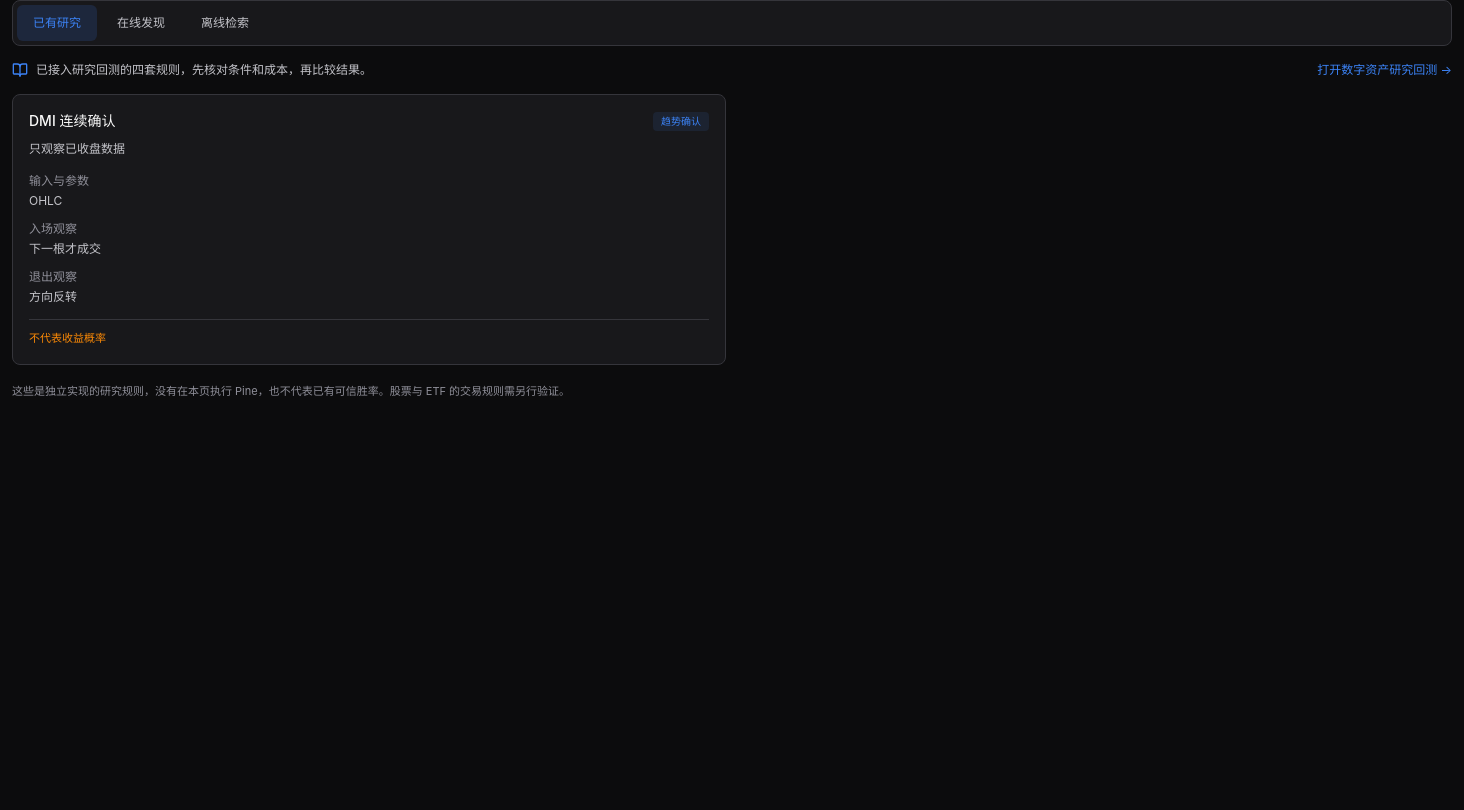
Test: only fetches source on demand and renders markup as literal text
Click the tab "在线发现" at (141, 23), box [101, 5, 181, 41]
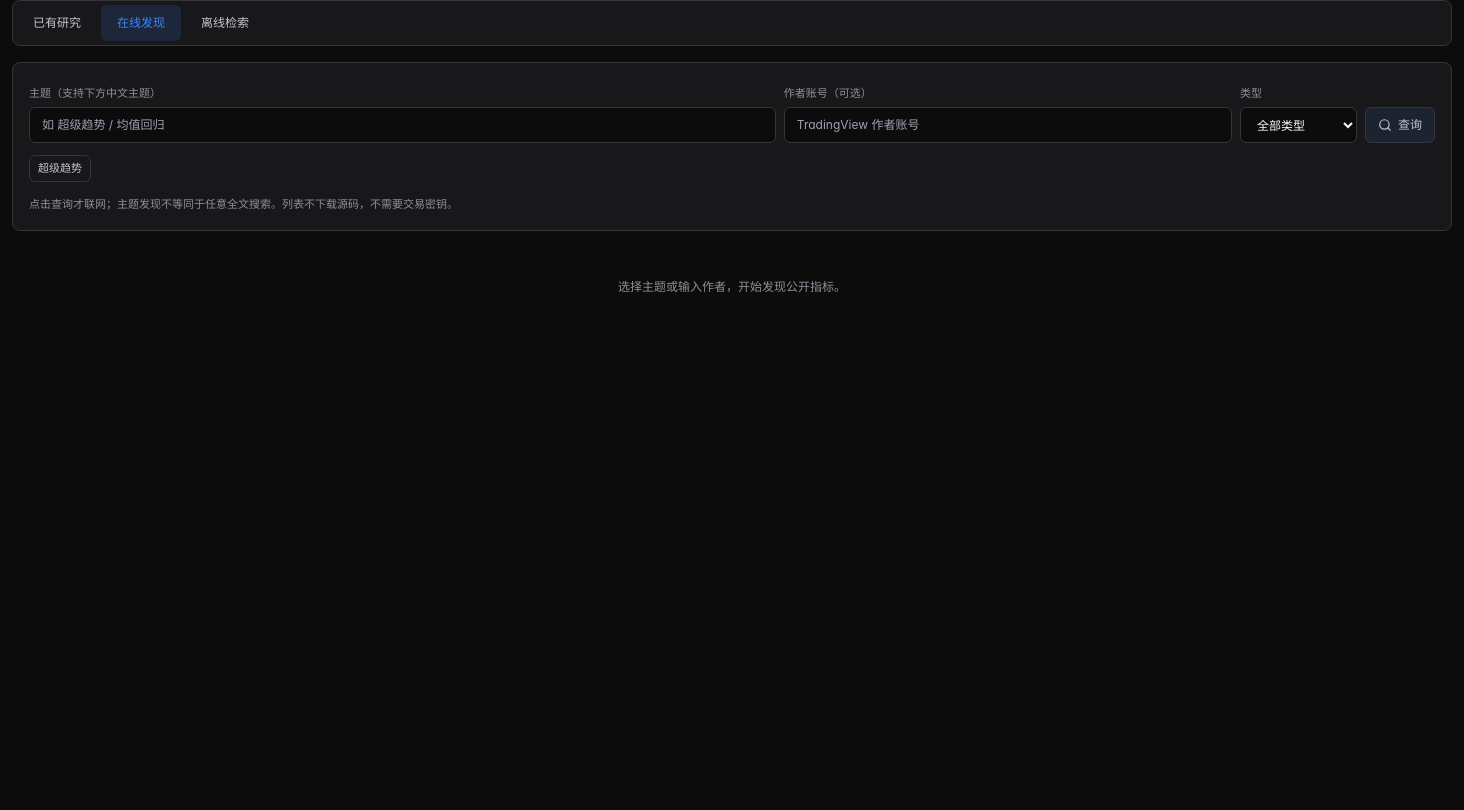
Click the button "超级趋势" at (60, 168), box [29, 155, 91, 182]
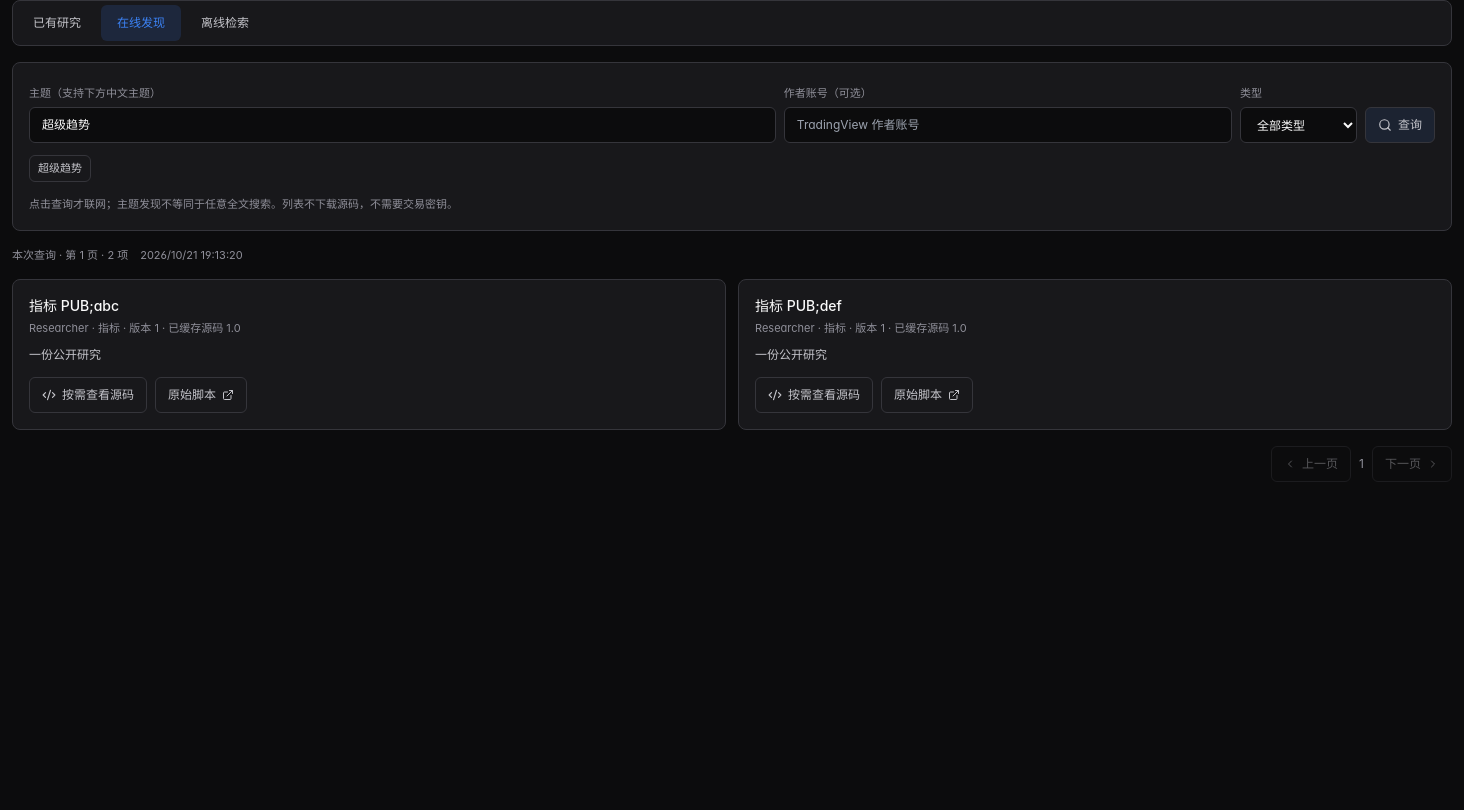
Click the button "按需查看源码" below "指标 PUB;abc" at (88, 394), box [29, 376, 147, 412]
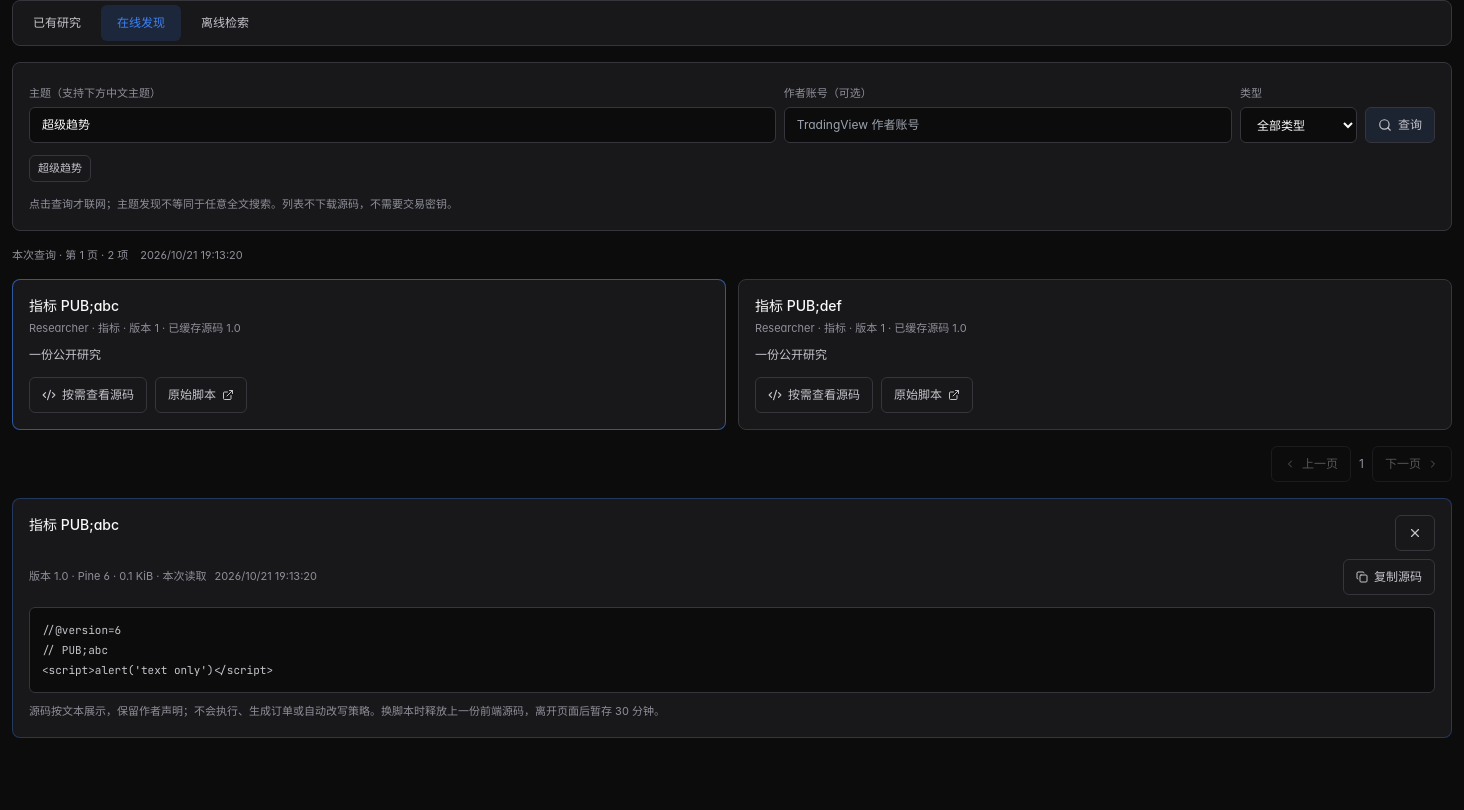
Check: the text "Pine 6" is shown, box [29, 568, 206, 585]
